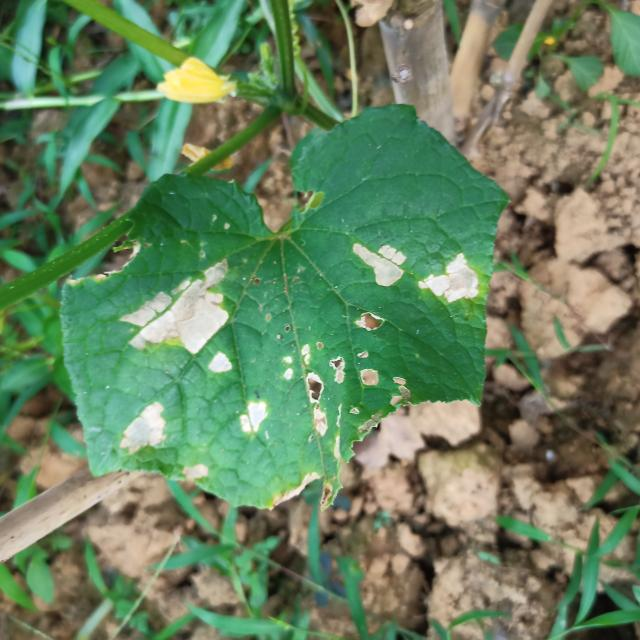disease_cucumber: (115, 251, 278, 486), (282, 309, 406, 437), (338, 227, 488, 309)
